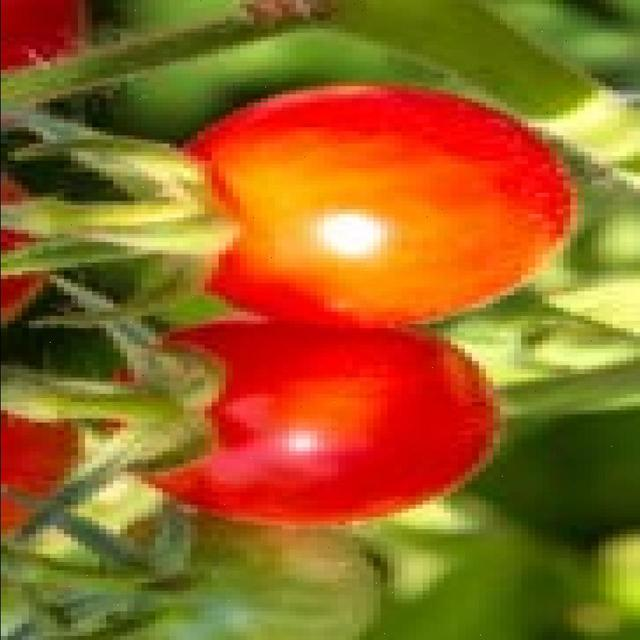Healthy Fruit: (85, 216, 326, 342)
